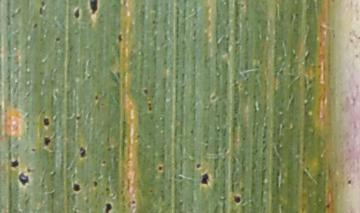tarspot: (75, 143, 90, 160), (69, 180, 84, 195), (89, 1, 100, 20), (199, 171, 212, 186), (8, 156, 21, 170), (18, 172, 29, 188), (102, 200, 115, 213), (40, 115, 52, 129), (41, 134, 52, 149), (72, 6, 82, 20), (232, 193, 242, 205), (115, 31, 125, 43), (91, 178, 100, 191), (155, 163, 165, 174), (53, 36, 65, 44), (194, 161, 202, 170), (141, 88, 151, 95), (75, 113, 82, 123)
